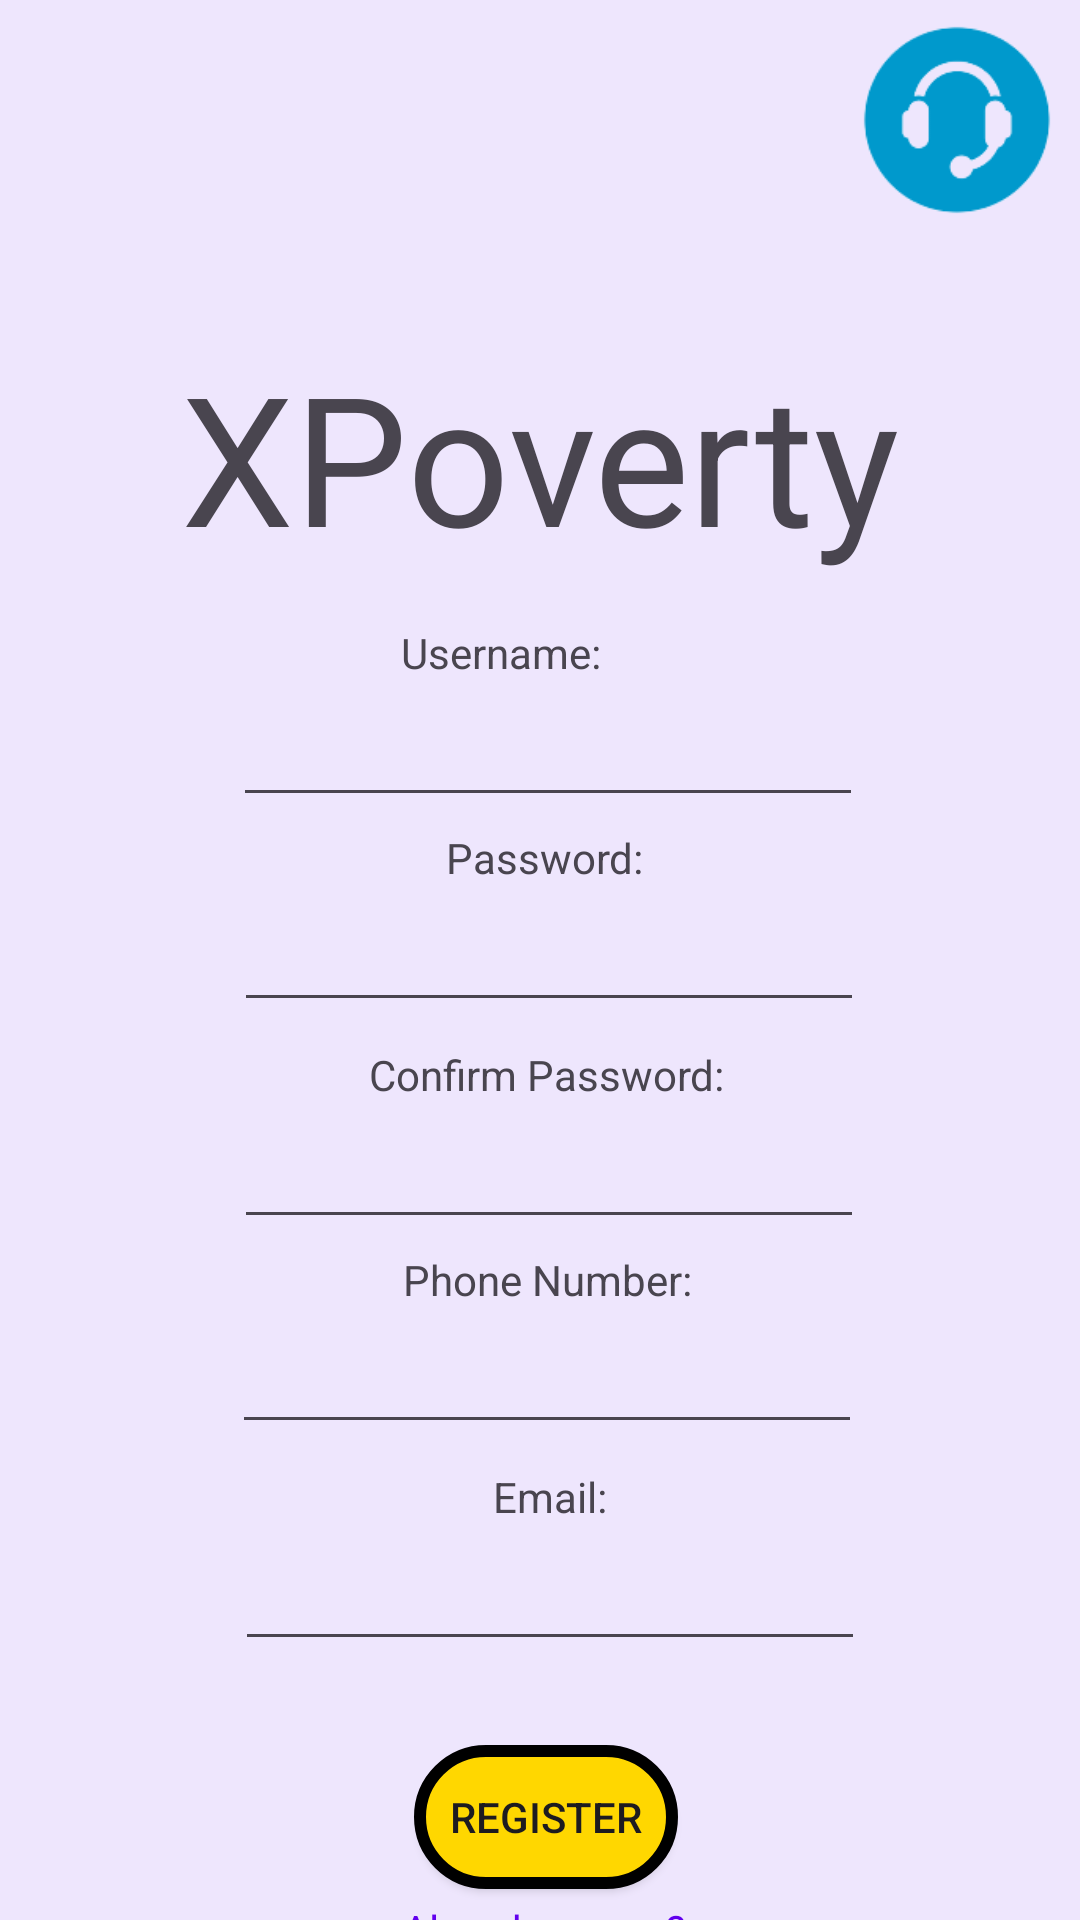

Locate icon controls on the screen. Image size 1080*1920, boxes as (x1, y1, x2, y2).
contact us: (864, 27, 1050, 213)
